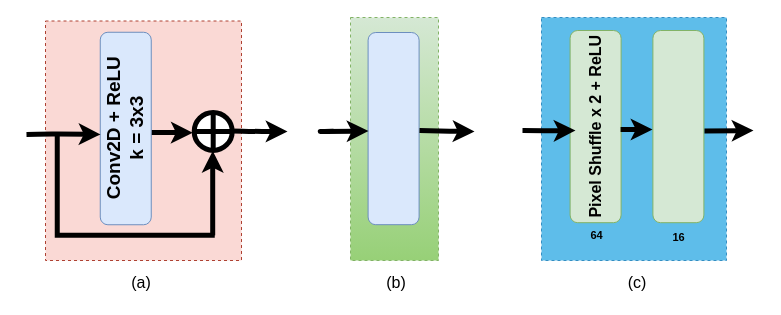
The diagram is 781 pixels wide and 315 high, and some of its shapes have lost their labels. Here are the shapes that lost their labels. From the top down, the centre of each, then its label:
At point 393,128: "Conv 2D + ReLU k = 1x1".
At point 678,126: "Pixel Shuttle x 2 + ReLU".
